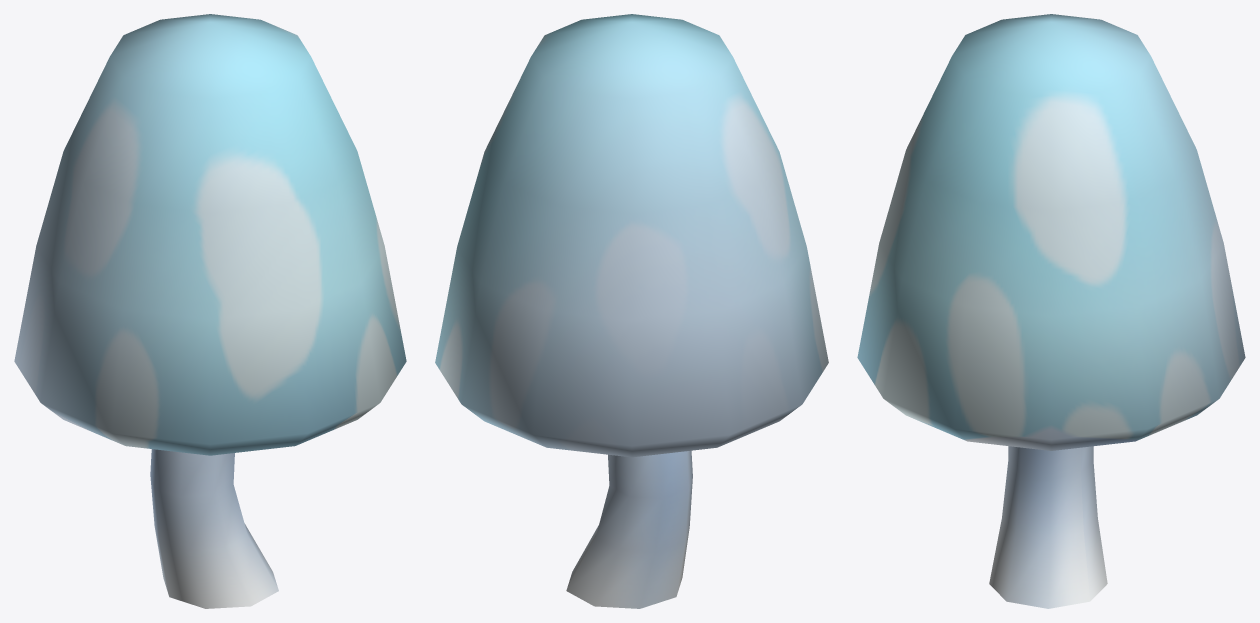
The picture shows the model from 3 angles, left to right: view 1: azimuth 30°, elevation 25°; view 2: azimuth 150°, elevation 25°; view 3: azimuth 270°, elevation 25°; orthographic projection.
Parts seen in each view (by area): view 1: Cylinder008; view 2: Cylinder008; view 3: Cylinder008.
Boxes of the visible parts, left/top/right/bottom form: Cylinder008: left=14, top=14, right=406, bottom=608; Cylinder008: left=435, top=14, right=828, bottom=608; Cylinder008: left=857, top=14, right=1245, bottom=608.
Bounding box in the file's own units: 27.47 × 43.52 × 27.47.
Materials: 1 (1 with a texture image).
